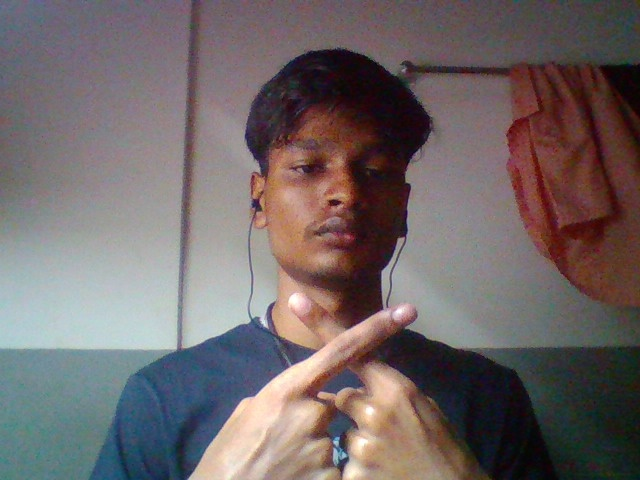X: (169, 289, 504, 480)
